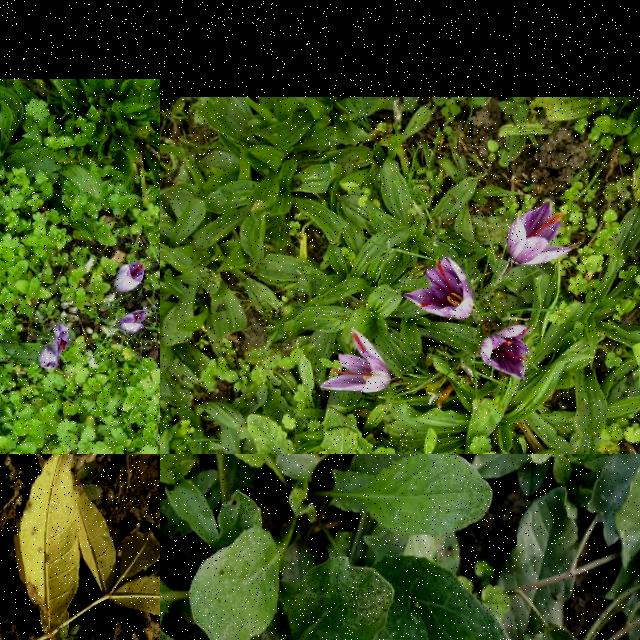flower: (321, 329, 393, 393), (404, 258, 474, 320), (508, 202, 574, 266), (480, 326, 530, 379), (116, 260, 146, 292), (119, 311, 145, 335), (40, 351, 60, 371), (56, 324, 70, 352)
